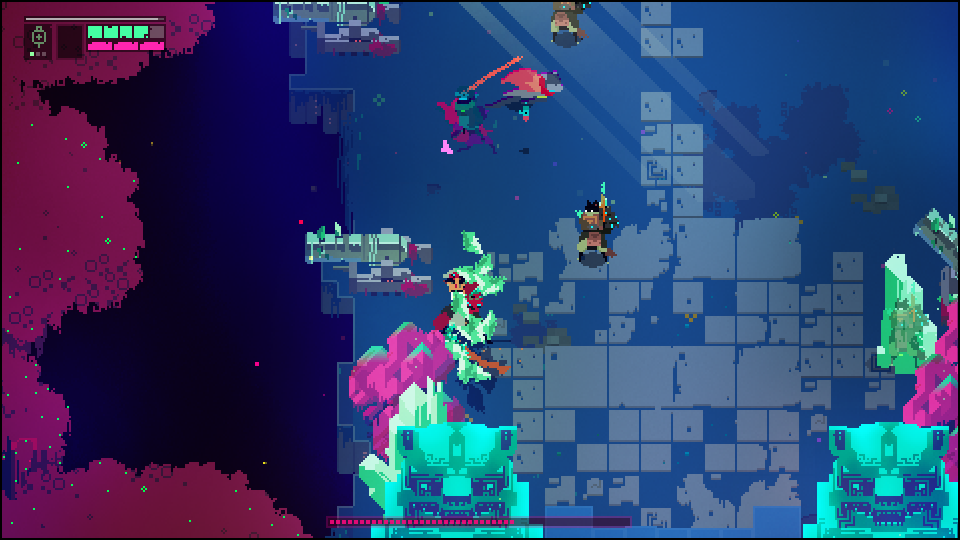player: (494, 66, 567, 112)
